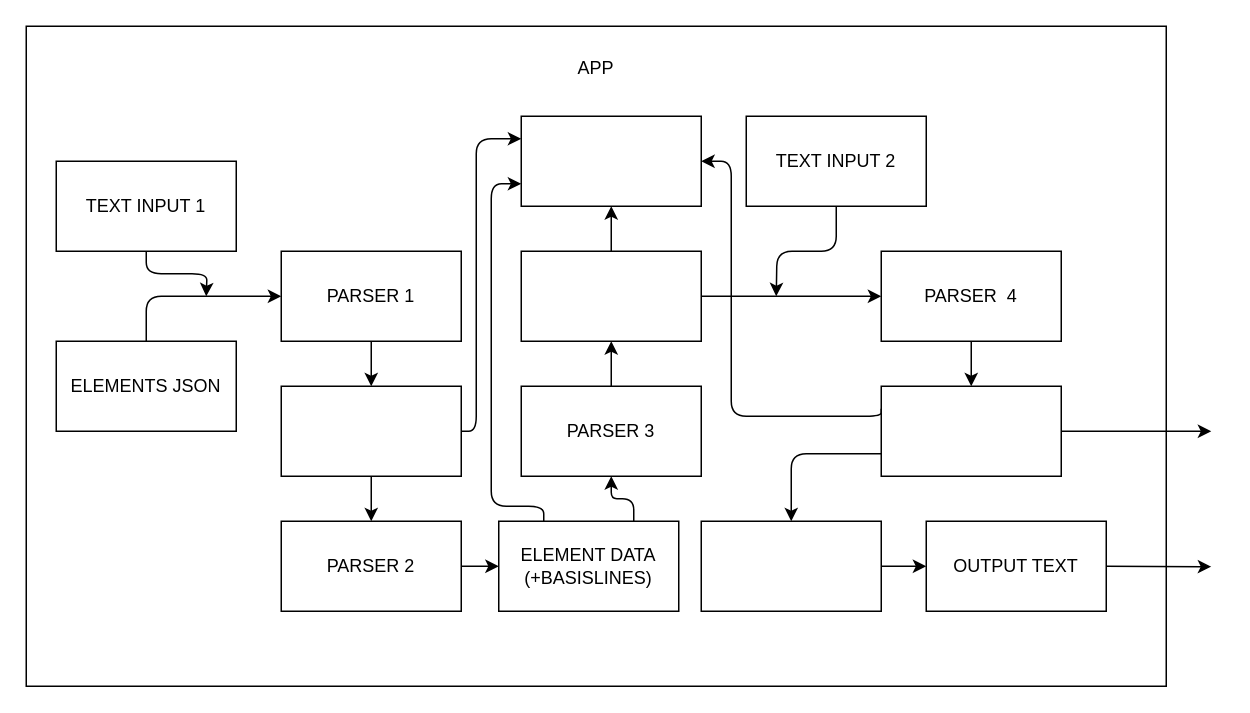
The diagram is 1250 pixels wide and 713 high, and some of its shapes have lost their labels. Each missing label, with the centre of its shape:
"DISPLAY" goes at (x=610, y=160).
"ELEMENT DATA (+BASIS)" goes at (x=610, y=295).
"ELEMENT DATA (+INPUTLINES)" goes at (x=970, y=430).
"PARSER 5" goes at (x=790, y=565).
"SUB ELEMENTS" goes at (x=370, y=430).
